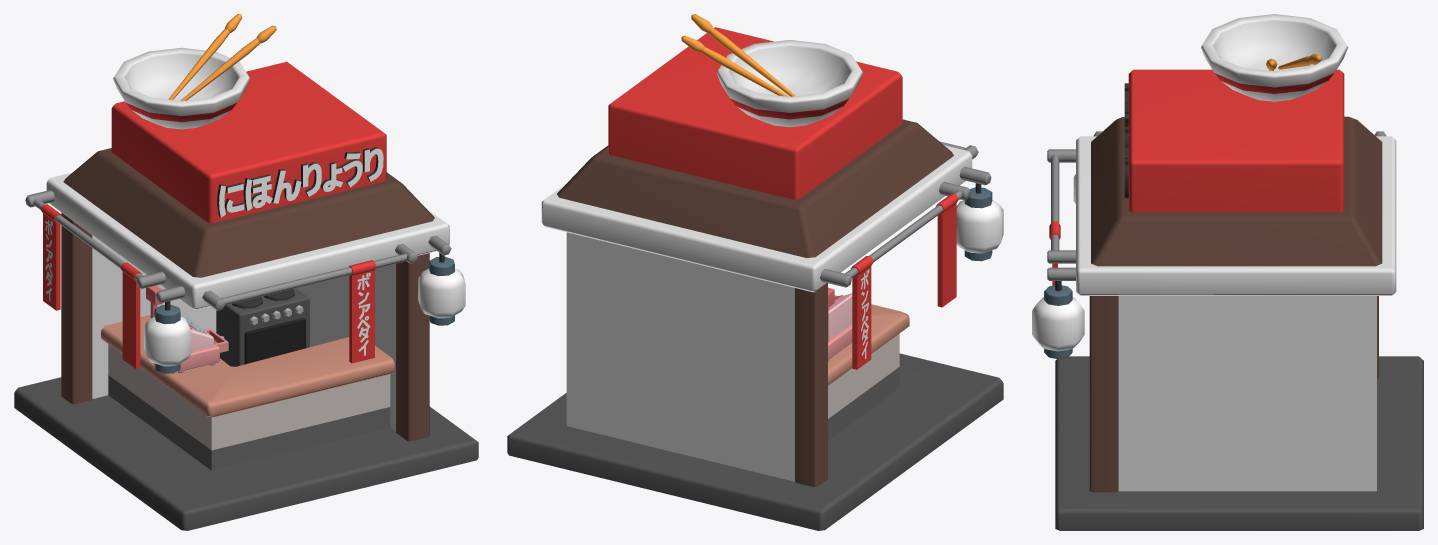
File: stall_005.gltf
The picture shows the model from 3 angles, left to right: view 1: azimuth 30°, elevation 25°; view 2: azimuth 150°, elevation 25°; view 3: azimuth 270°, elevation 25°; orthographic projection. The views are drawn at different scales.
Parts seen in each view (by area): view 1: stall_005; view 2: stall_005; view 3: stall_005.
Part boxes in pixels (<box>): stall_005: <box>14,14,478,530</box>; stall_005: <box>507,14,1003,530</box>; stall_005: <box>1032,14,1423,530</box>.
Bounding box in the file's own units: 4.6 × 5.4 × 4.63.
Materials: 2 (1 with a texture image).
